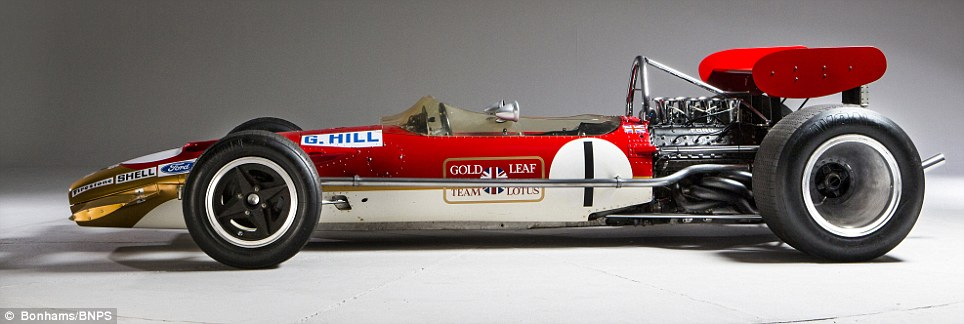f1_car: (61, 41, 956, 286)
